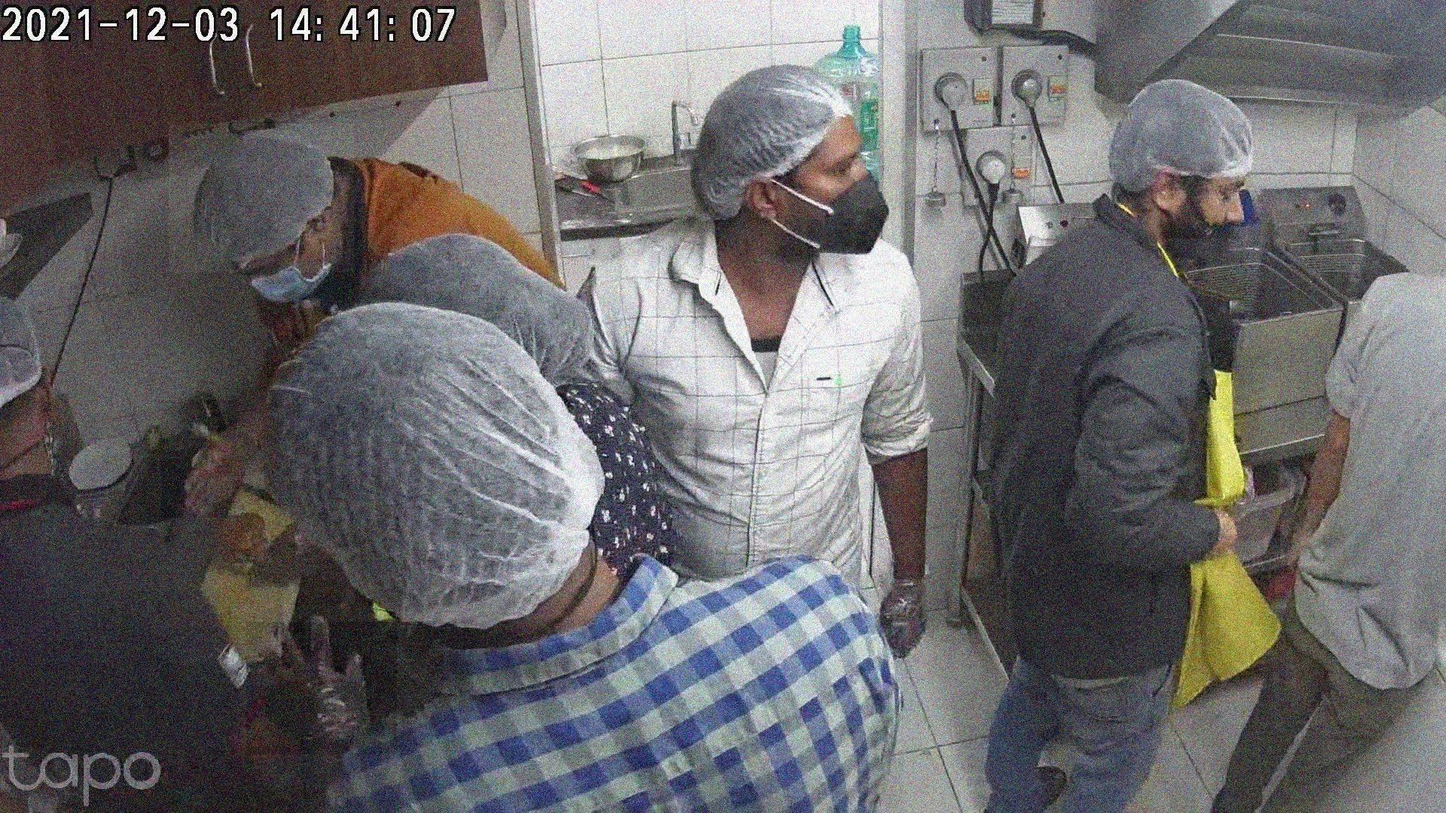apron: (247, 605, 398, 754), (162, 400, 272, 518), (874, 563, 957, 681)
gloves: (237, 307, 607, 622), (673, 31, 882, 224), (169, 123, 354, 273), (1102, 59, 1267, 199), (0, 257, 71, 431)
mask: (780, 154, 884, 257), (249, 258, 334, 302)
no_apron: (1196, 498, 1260, 590), (1281, 500, 1324, 565)
no_hairnet: (1160, 168, 1246, 239)
